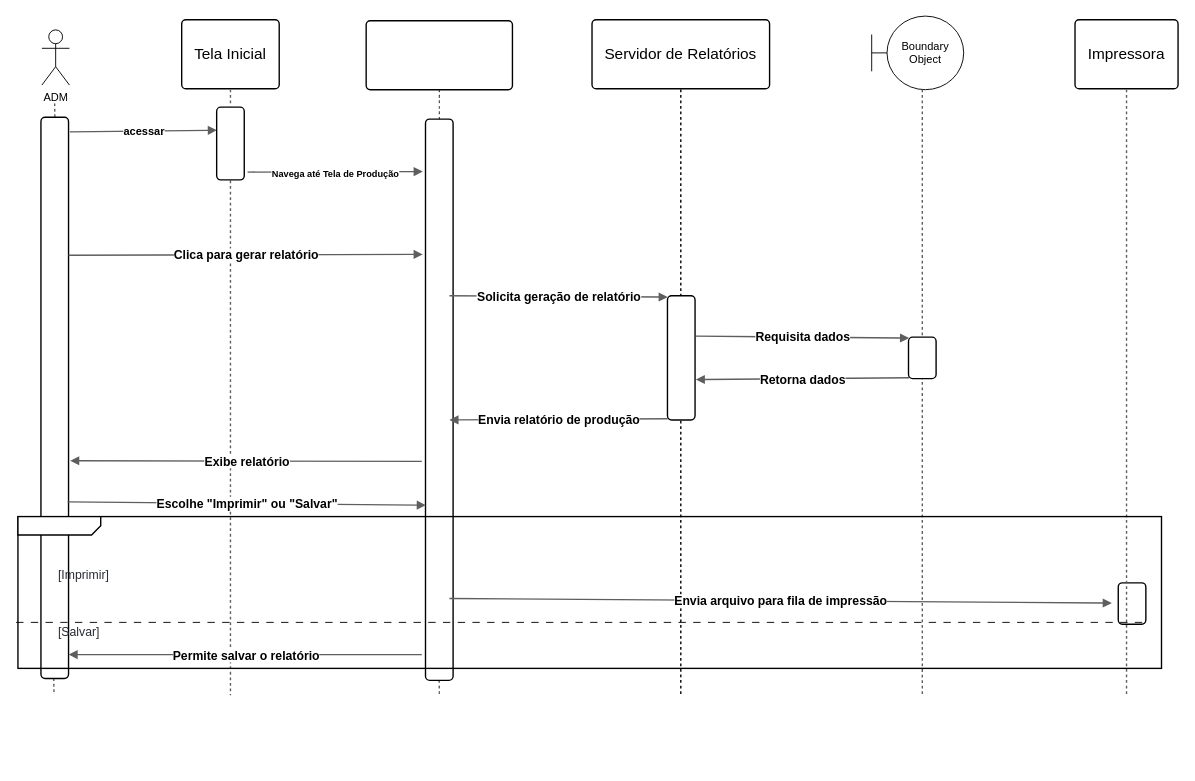
Image size: 1195x781. Some labels were removed from this diagram. Here are the shapes that lost their labels. From the top down, the box of each, then its label:
(365, 20, 513, 90): Tela de Produção
(17, 515, 1162, 669): Alternative
